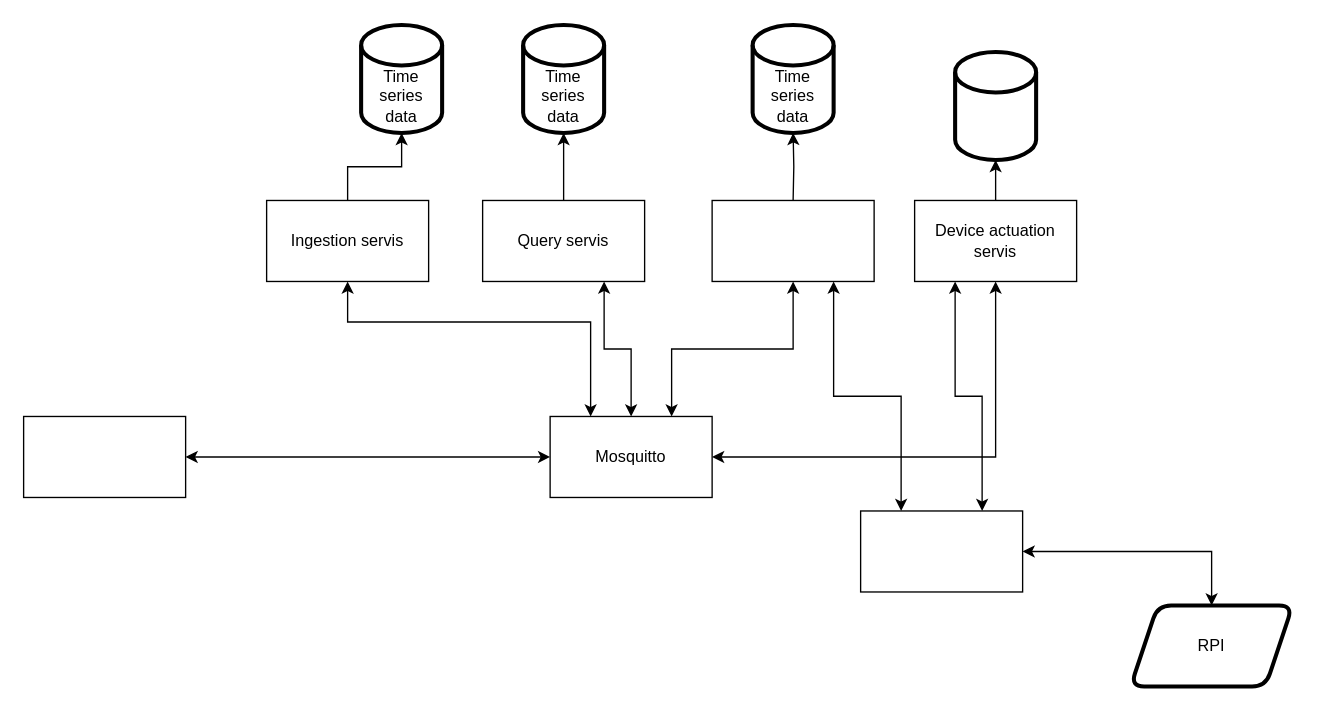
This 1318x711 diagram has some shape labels left out. Here are the shapes that lost their labels. From the top down, the centre of each, then its label:
(x=994, y=105): MySQL DB
(x=792, y=240): Alert/Analytics servis
(x=104, y=456): Senzori
(x=941, y=551): Kafka
